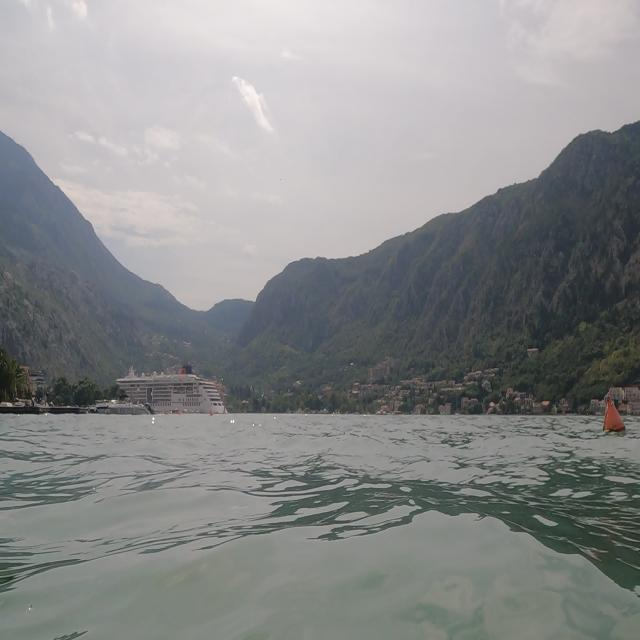boat: (98, 366, 245, 444)
buoy: (600, 392, 628, 441)
